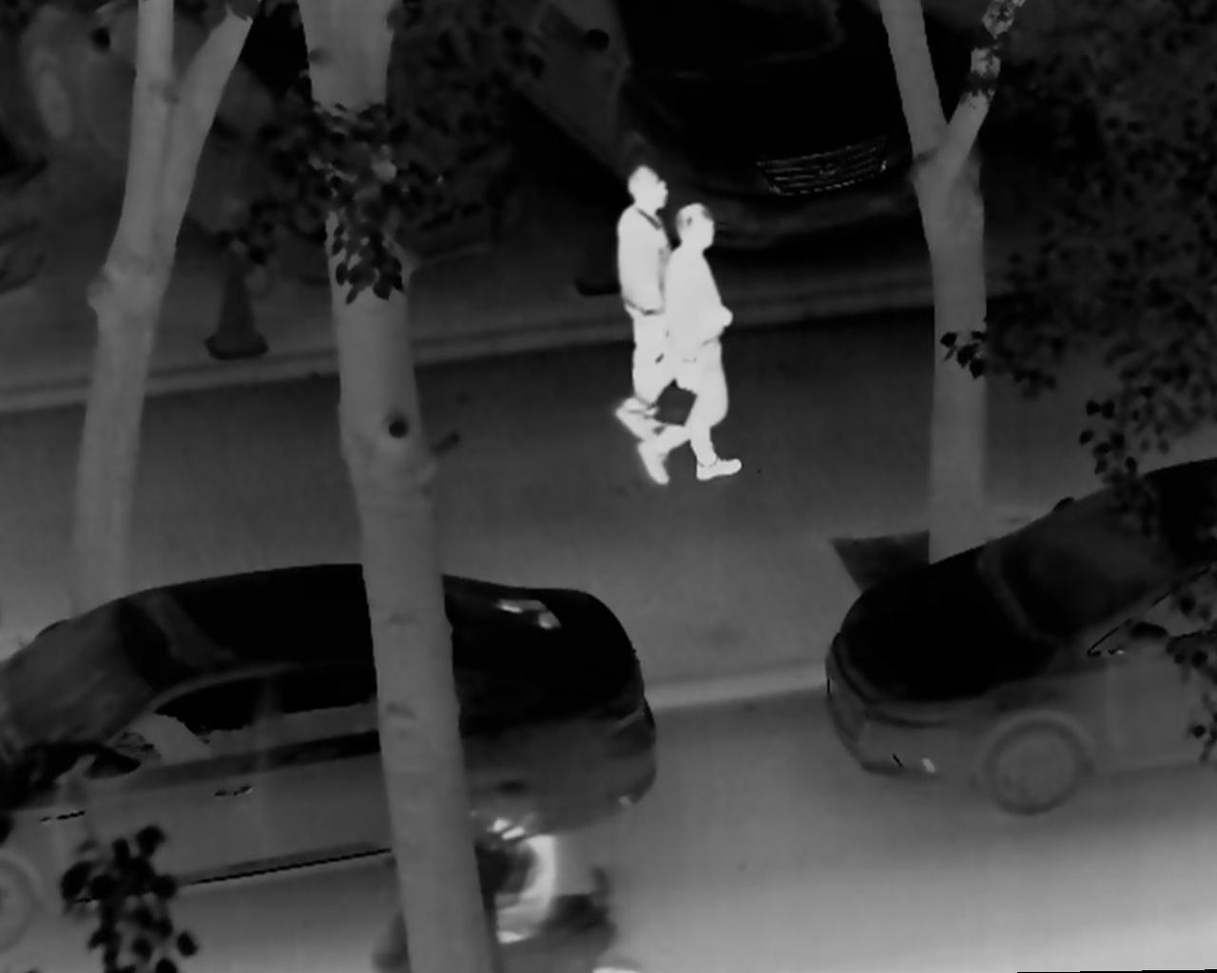person: (636, 202, 748, 487), (607, 158, 707, 443), (456, 779, 564, 955)
